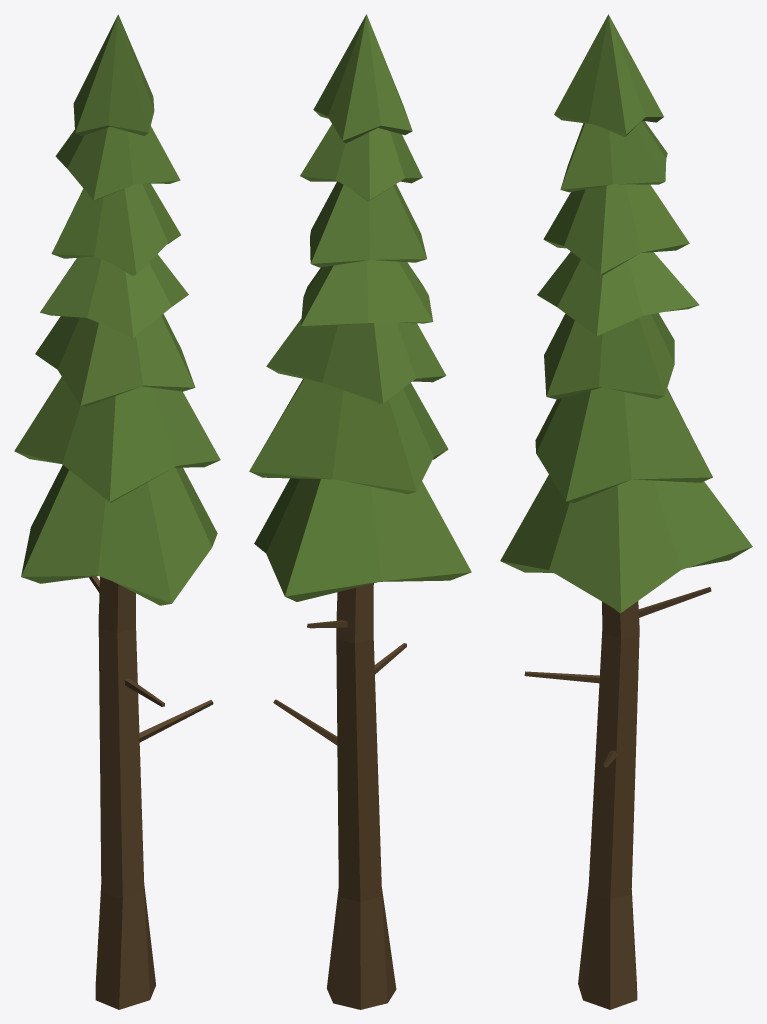
The model's file is Tree_27.fbx.
3 renders of one model, left to right at view 1: azimuth 30°, elevation 25°; view 2: azimuth 150°, elevation 25°; view 3: azimuth 270°, elevation 25°, orthographic.
Visible parts, largest first — view 1: Tree_27; view 2: Tree_27; view 3: Tree_27.
Part boxes in pixels (bbox=[...]): Tree_27: bbox=[14, 14, 220, 1009]; Tree_27: bbox=[249, 14, 471, 1009]; Tree_27: bbox=[500, 14, 752, 1009].
Size of the model in its own units: 140 by 636 by 149.
